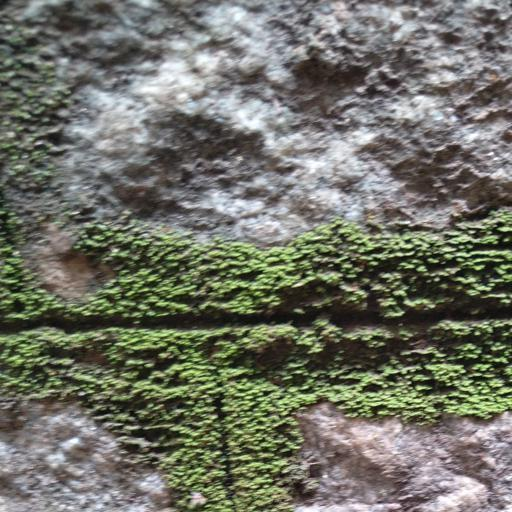algae: (11, 171, 512, 512)
